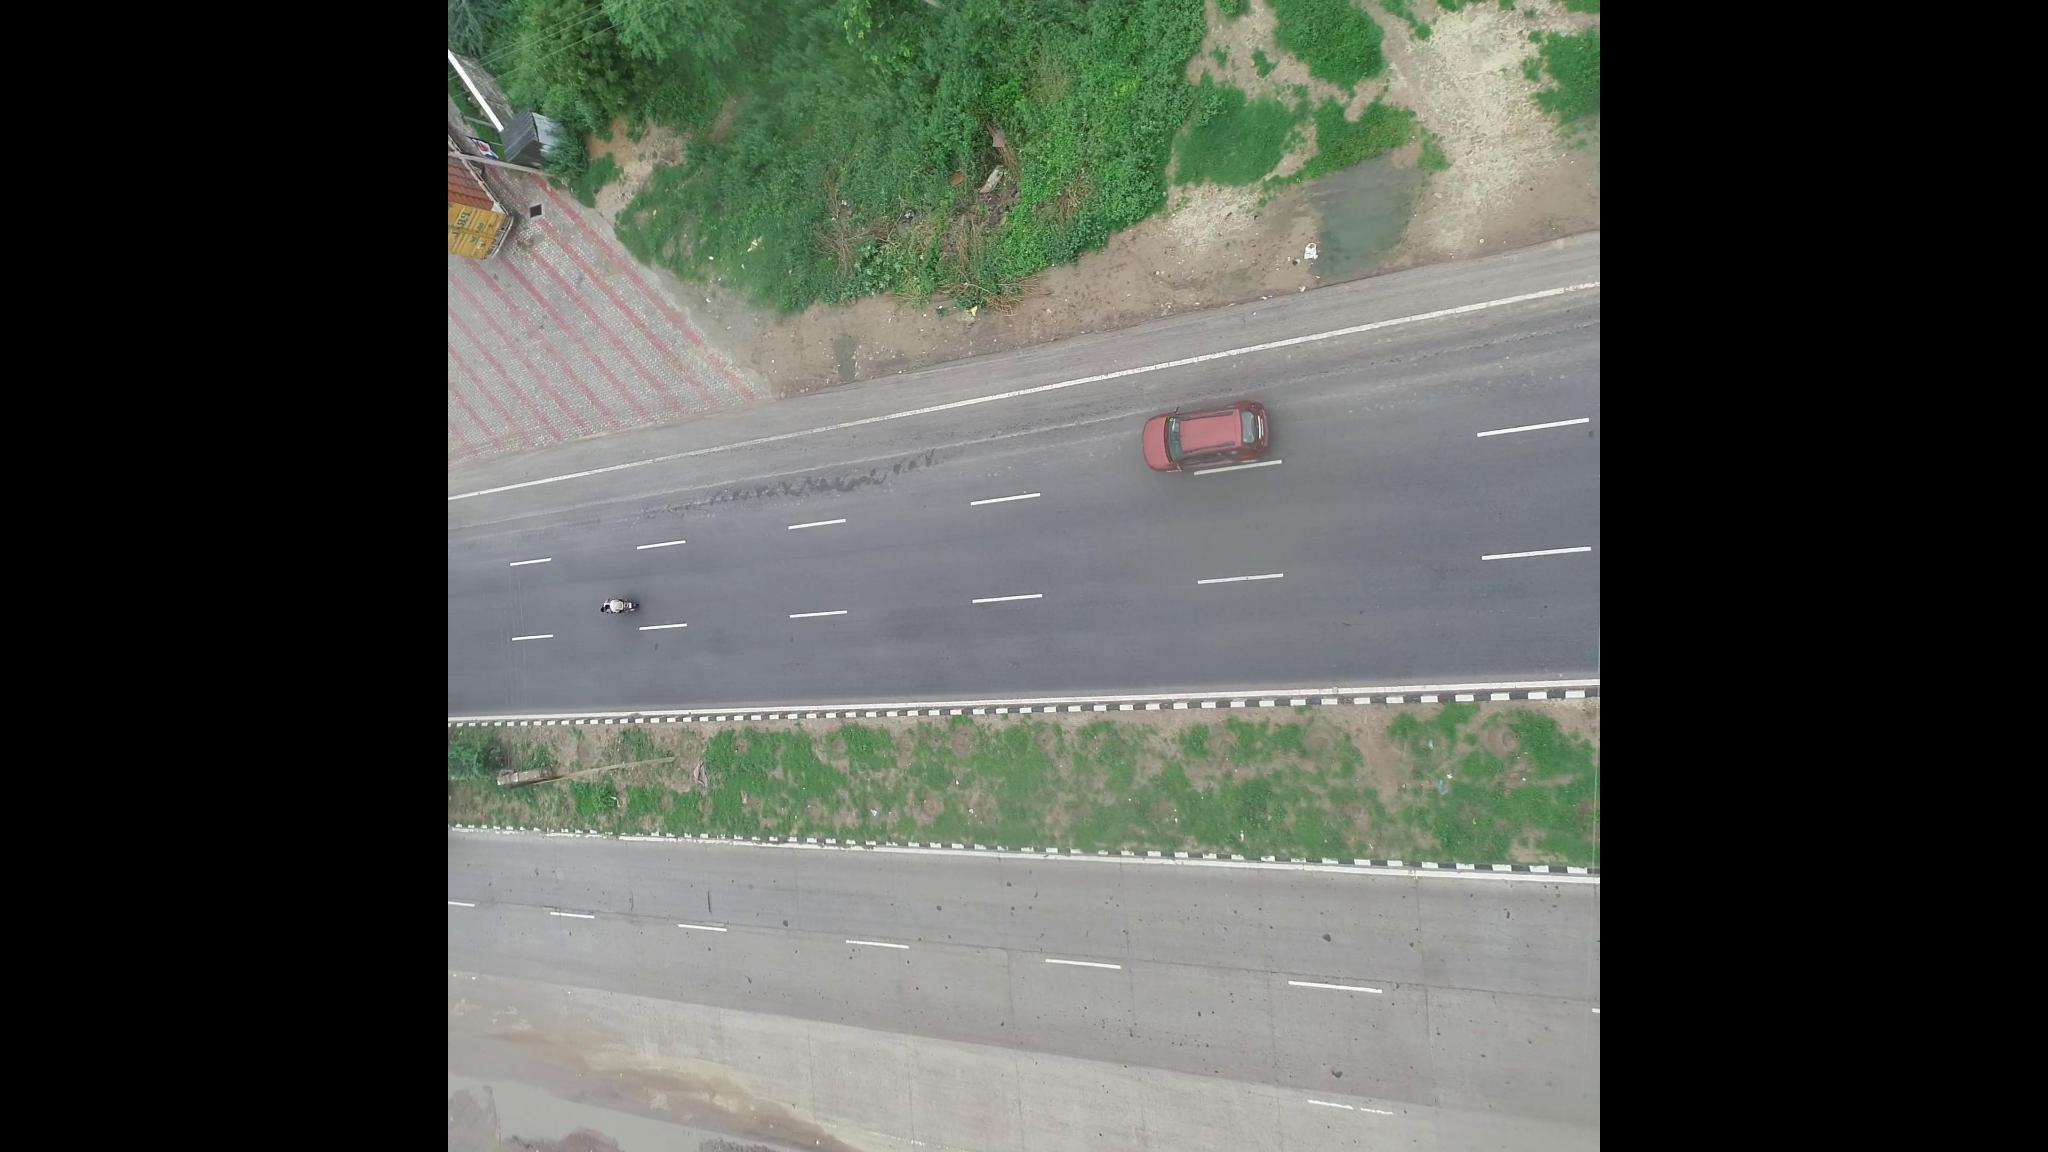Ravelling: (655, 450, 933, 518)
